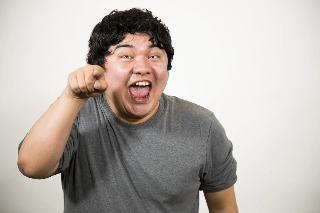person - v3 P: (26, 4, 243, 213)
